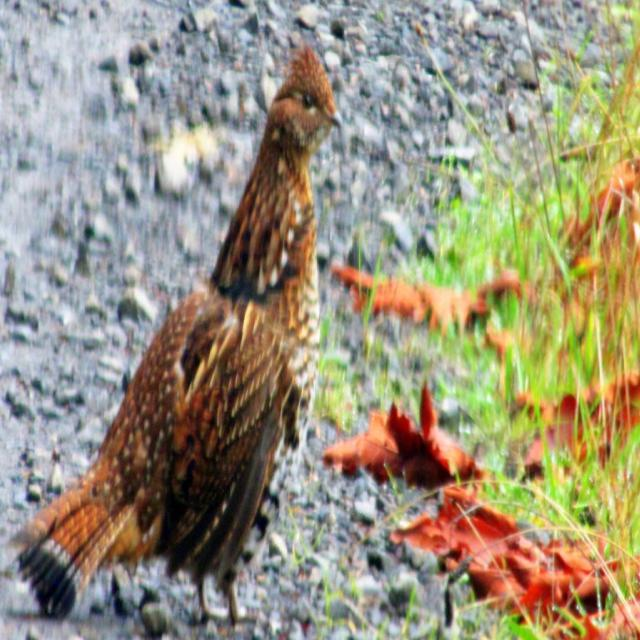Chicken: (6, 40, 341, 629)
